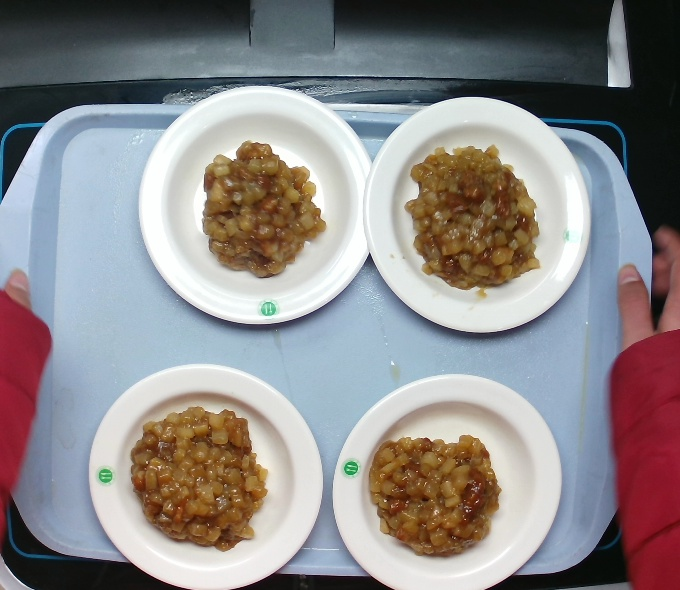wcq-RouYuan: (390, 136, 558, 298), (357, 409, 515, 566), (134, 391, 273, 552), (186, 129, 329, 274)
